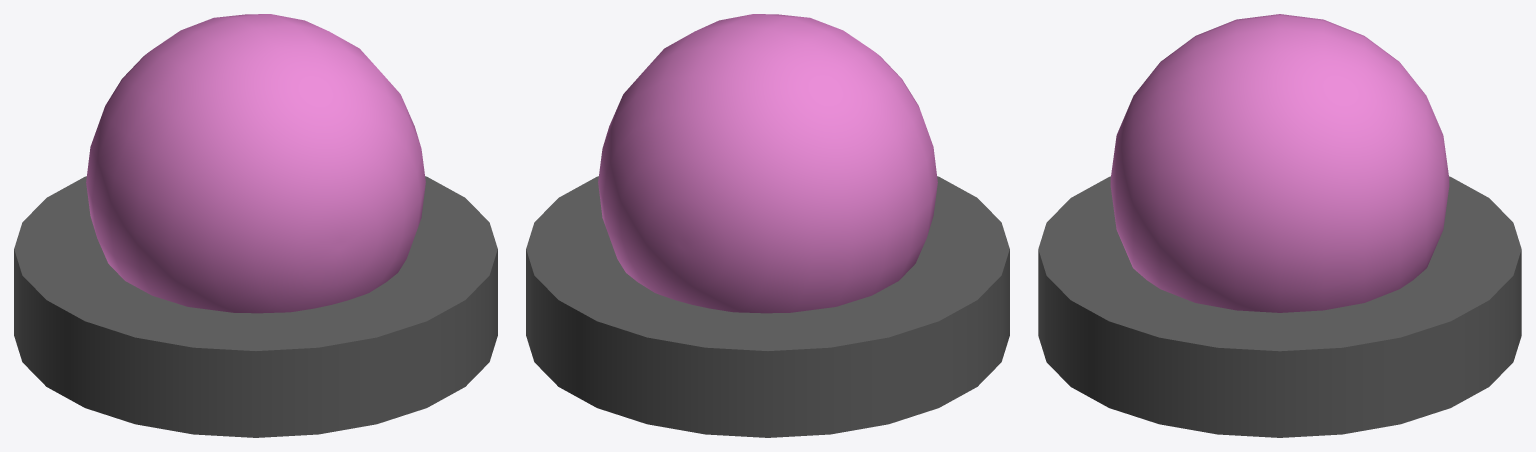
The model's file is gems_opal_3.obj.
3 renders of one model, left to right at view 1: azimuth 30°, elevation 25°; view 2: azimuth 150°, elevation 25°; view 3: azimuth 270°, elevation 25°, orthographic.
Visible parts, largest first — view 1: mergedBlocks; view 2: mergedBlocks; view 3: mergedBlocks.
Boxes of the visible parts, x1,y1,x2,y2 form: mergedBlocks: [14, 14, 497, 437]; mergedBlocks: [526, 14, 1009, 437]; mergedBlocks: [1038, 14, 1521, 437].
Size of the model in its own units: 1 by 0.7 by 1.
